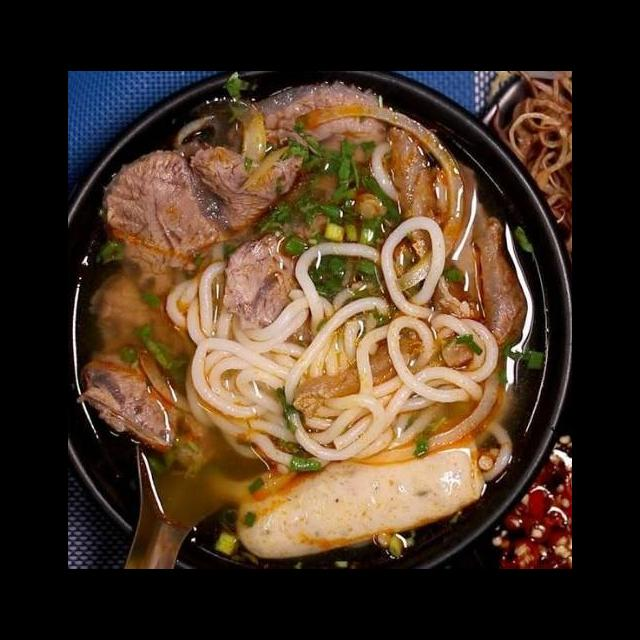bun: (257, 212, 505, 466), (159, 237, 272, 463)
thit bo: (95, 138, 309, 306), (78, 266, 191, 454), (222, 76, 399, 172), (219, 209, 342, 347)
